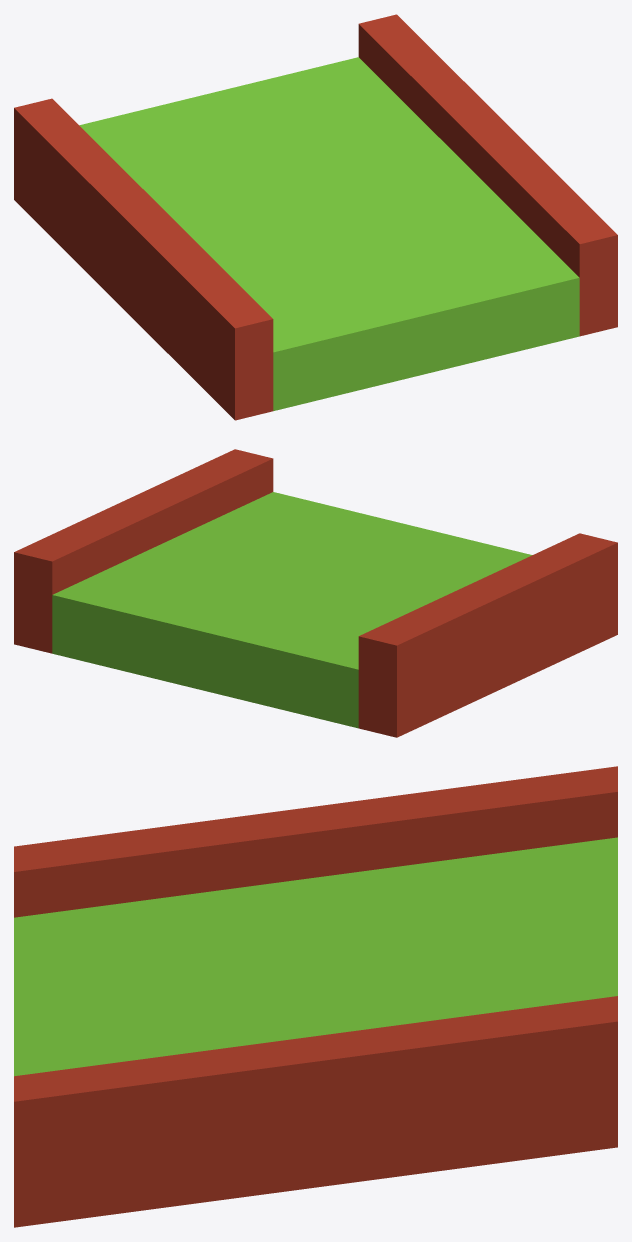
File: Ramp_02932M.FBX
The picture shows the model from 3 angles, top to bottom: view 1: azimuth 30°, elevation 25°; view 2: azimuth 150°, elevation 25°; view 3: azimuth 270°, elevation 25°; orthographic projection. The views are drawn at different scales.
Parts seen in each view (by area): view 1: Ramp_1_01, Walls; view 2: Ramp_1_01, Walls; view 3: Walls, Ramp_1_01.
Boxes of the visible parts, box(x1,y1,x2,y2) form: Ramp_1_01: box(79, 57, 579, 410); Walls: box(14, 14, 617, 420); Ramp_1_01: box(52, 492, 532, 728); Walls: box(14, 449, 617, 737); Walls: box(14, 766, 617, 1227); Ramp_1_01: box(14, 837, 617, 1076).
Bounding box in the file's own units: 0.9999 × 0.9999 × 0.3766.
